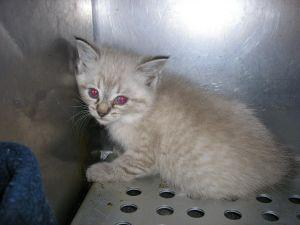siamese: (71, 32, 170, 135)
